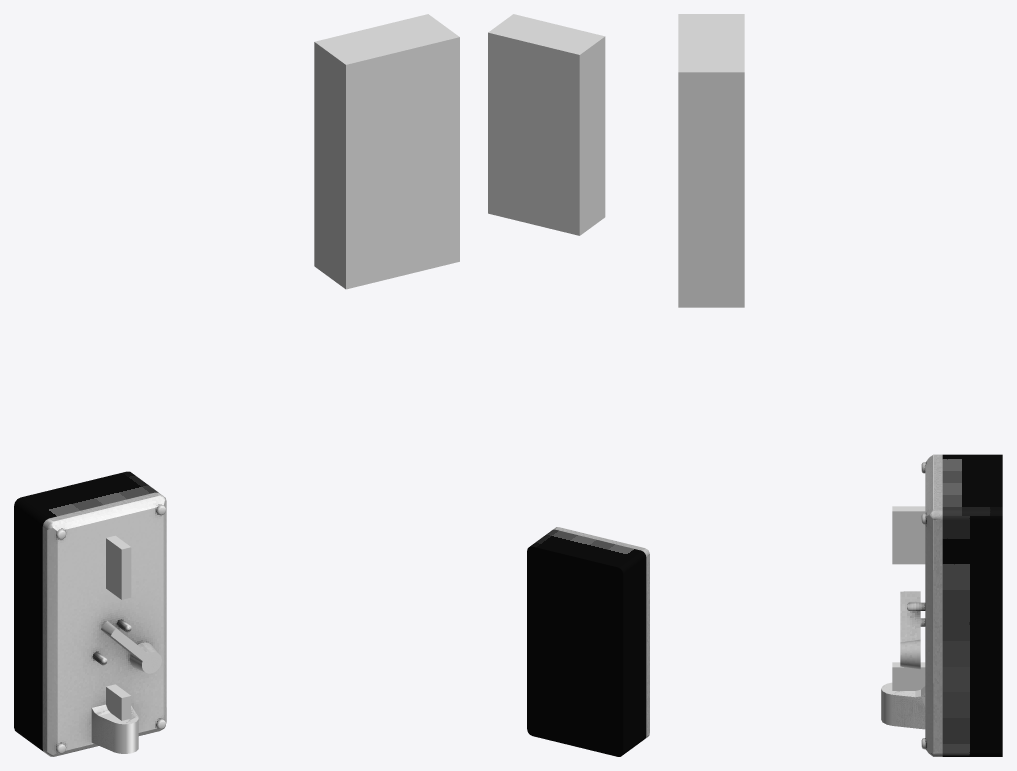
Rendered from coin-box.glb.
3 views of the same model, side by side, from view 1: azimuth 30°, elevation 25°; view 2: azimuth 150°, elevation 25°; view 3: azimuth 270°, elevation 25° (orthographic). The views are drawn at different scales.
Parts seen in each view (by area): view 1: coin box-noimp, coin panel, return tray-noimp, coin slot-noimp, return lever, coin slot.002-noimp; view 2: coin panel, coin box-noimp; view 3: coin panel, coin box-noimp, coin slot-noimp, return tray-noimp, return lever, coin slot.002-noimp.
Part boxes in pixels (x1=…): coin box-noimp: x1=314, y1=14, x2=459, y2=289; coin panel: x1=14, y1=471, x2=166, y2=756; return tray-noimp: x1=91, y1=704, x2=138, y2=753; coin slot-noimp: x1=106, y1=535, x2=131, y2=599; return lever: x1=101, y1=621, x2=161, y2=673; coin slot.002-noimp: x1=106, y1=684, x2=131, y2=720; coin panel: x1=527, y1=527, x2=649, y2=756; coin box-noimp: x1=488, y1=14, x2=605, y2=235; coin panel: x1=883, y1=454, x2=1002, y2=756; coin box-noimp: x1=678, y1=14, x2=744, y2=307; coin slot-noimp: x1=892, y1=506, x2=925, y2=564; return tray-noimp: x1=881, y1=682, x2=925, y2=729; return lever: x1=900, y1=591, x2=920, y2=669; coin slot.002-noimp: x1=892, y1=662, x2=925, y2=690.
Bounding box in the file's own units: 0.3018 × 0.7327 × 0.278.
Materials: 1 (1 with a texture image).
